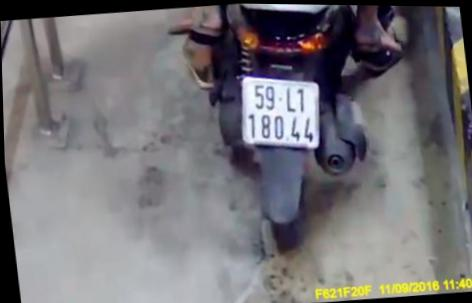LP: (233, 68, 327, 161)
